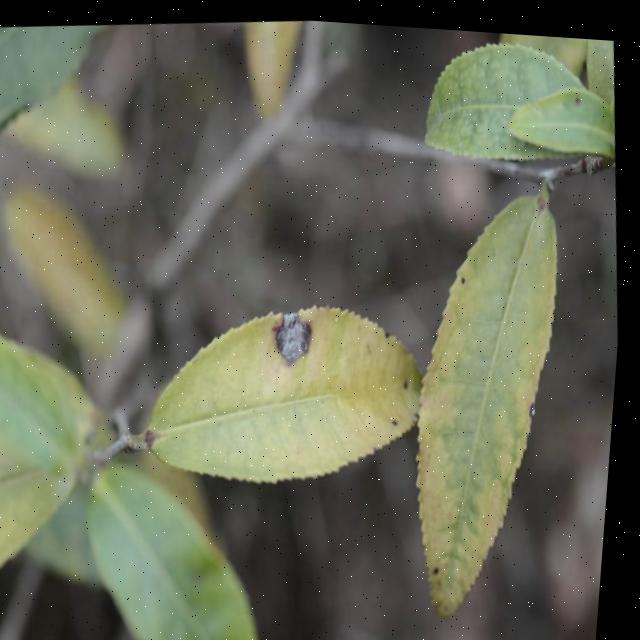Tea red scab: (271, 296, 333, 367)
